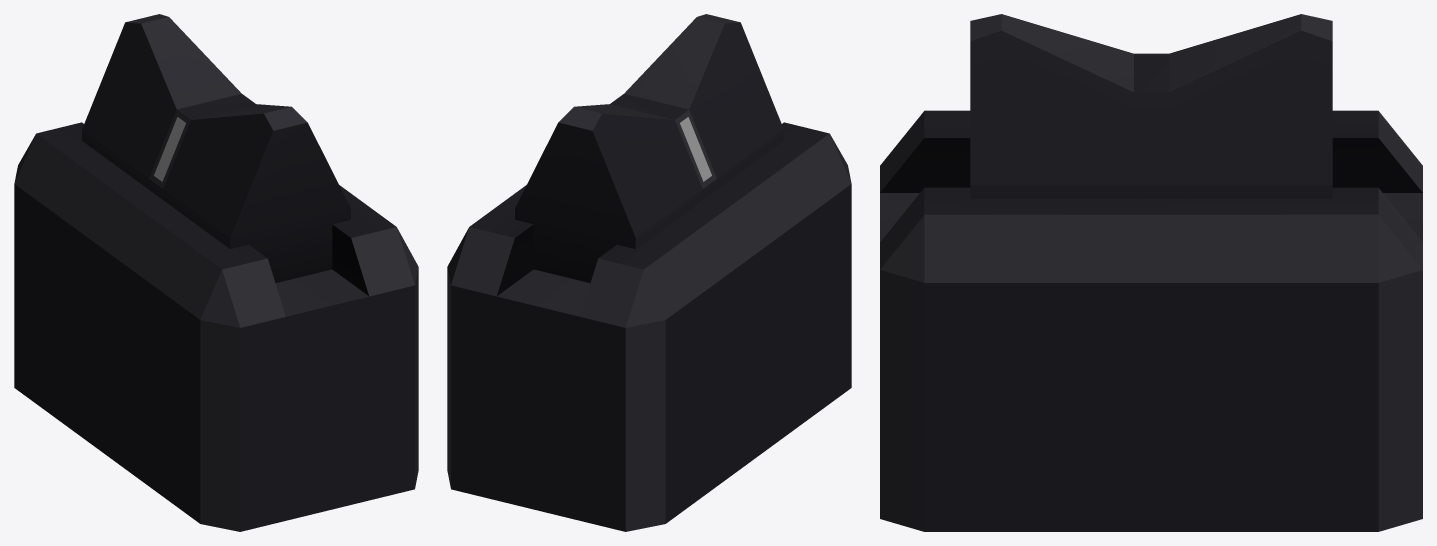
File: k-ironsight-rear-welded-01.glb
3 views of the same model, side by side, from view 1: azimuth 30°, elevation 25°; view 2: azimuth 150°, elevation 25°; view 3: azimuth 270°, elevation 25° (orthographic). The views are drawn at different scales.
Parts seen in each view (by area): view 1: kit; view 2: kit; view 3: kit.
Part boxes in pixels (x1=…): kit: x1=14, y1=14, x2=418, y2=531; kit: x1=447, y1=14, x2=851, y2=531; kit: x1=880, y1=14, x2=1422, y2=531.
Bounding box in the file's own units: 0.009 × 0.0143 × 0.0159.
Materials: 1 (1 with a texture image).
